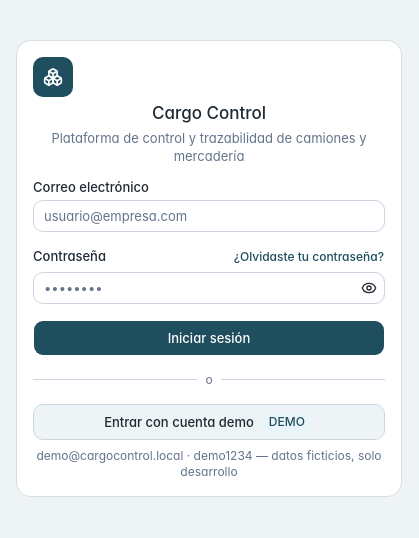
Test: LoginPage › shows inline field errors on an empty submit
Click the button "Iniciar sesión". click: [209, 338]
box: [33, 320, 385, 356]
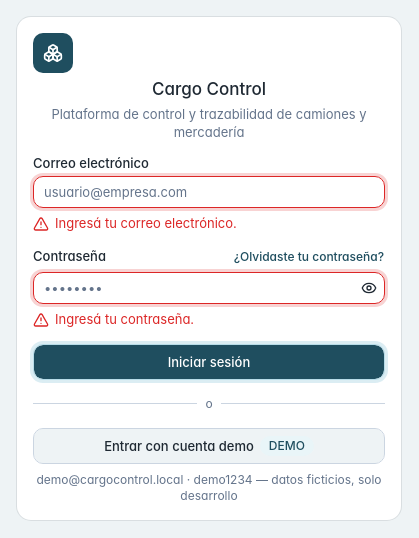
Expected: the text "Ingresá tu correo electrónico." is shown, [33, 214, 237, 232]
Expected: the text "Ingresá tu contraseña." is shown, [33, 310, 194, 328]
